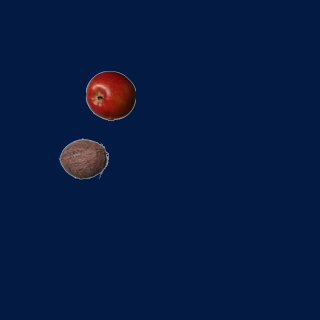Apple Braeburn: (85, 70, 135, 120)
Cocos: (58, 133, 108, 183)
